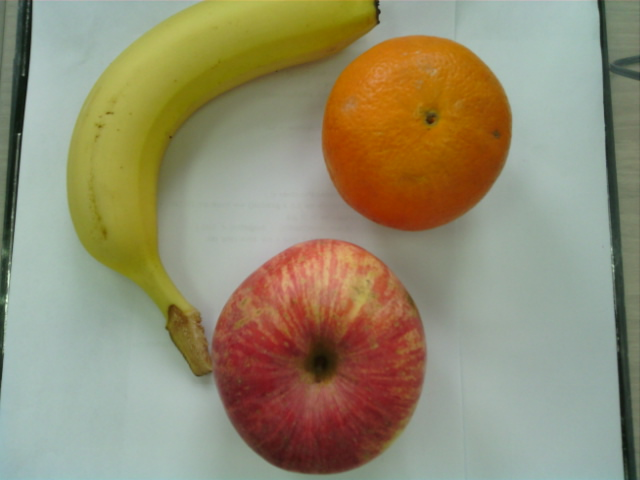normal_apple: (213, 239, 427, 474)
normal_banana: (66, 1, 381, 290)
normal_orange: (325, 35, 514, 234)
